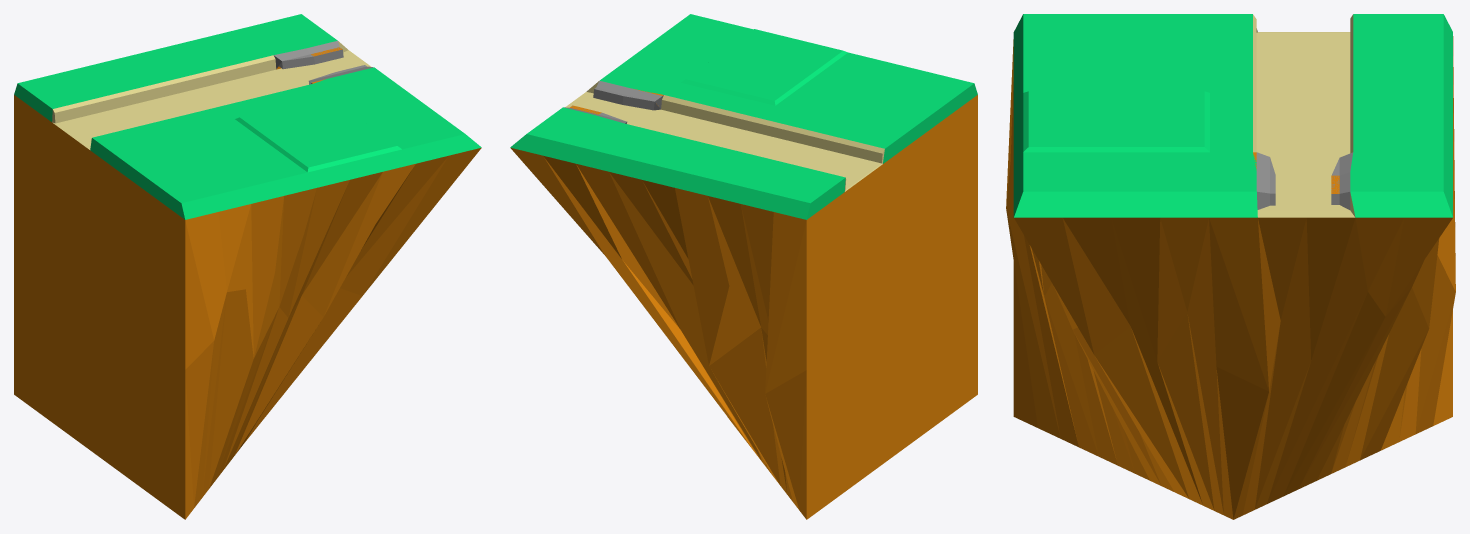
File: bottomisland.fbx
3 renders of one model, left to right at view 1: azimuth 30°, elevation 25°; view 2: azimuth 150°, elevation 25°; view 3: azimuth 270°, elevation 25°, orthographic. The views are drawn at different scales.
Parts seen in each view (by area): view 1: Grid; view 2: Grid; view 3: Grid.
Part boxes in pixels (x1,y1,x2,y2): Grid: (14, 14, 481, 519); Grid: (510, 14, 977, 519); Grid: (1006, 14, 1455, 519).
Size of the model in its own units: 1001 by 1020 by 1024.
